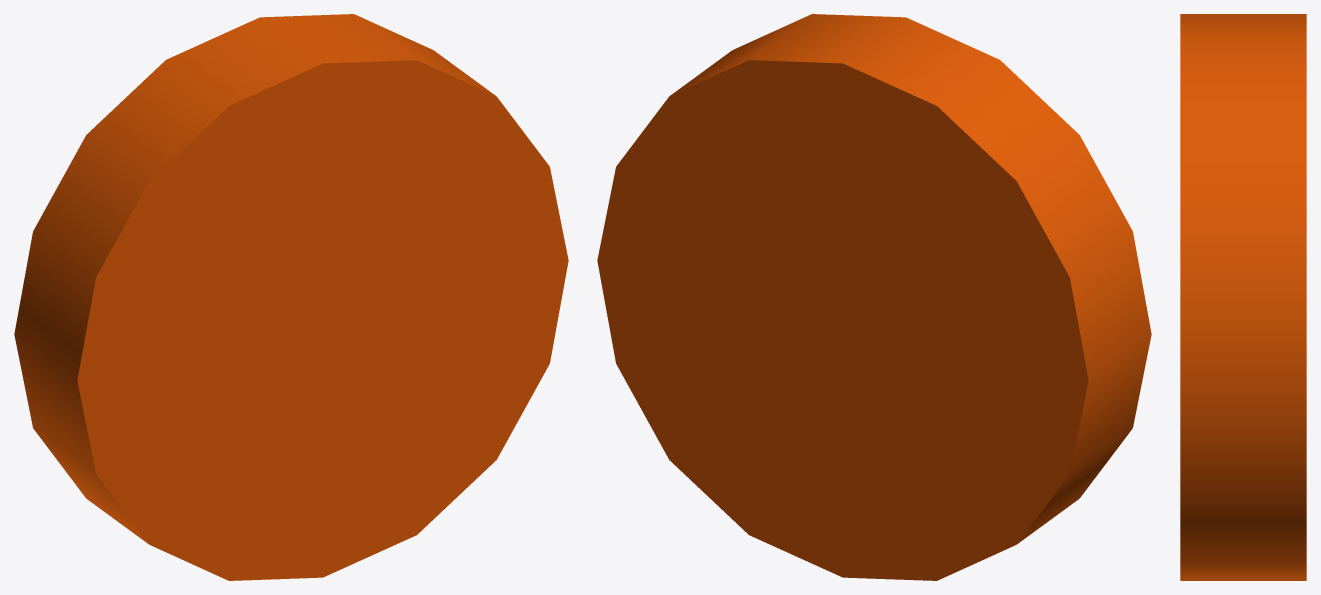
The model's file is body_beacon.obj.
3 views of the same model, side by side, from view 1: azimuth 30°, elevation 25°; view 2: azimuth 150°, elevation 25°; view 3: azimuth 270°, elevation 25° (orthographic).
Visible parts, largest first — view 1: body_beacon; view 2: body_beacon; view 3: body_beacon.
Boxes of the visible parts, x1,y1,x2,y2 form: body_beacon: (14,14,568,580); body_beacon: (597,14,1151,580); body_beacon: (1180,14,1306,580).
Bounding box in the file's own units: 0.009 × 0.009 × 0.002.
